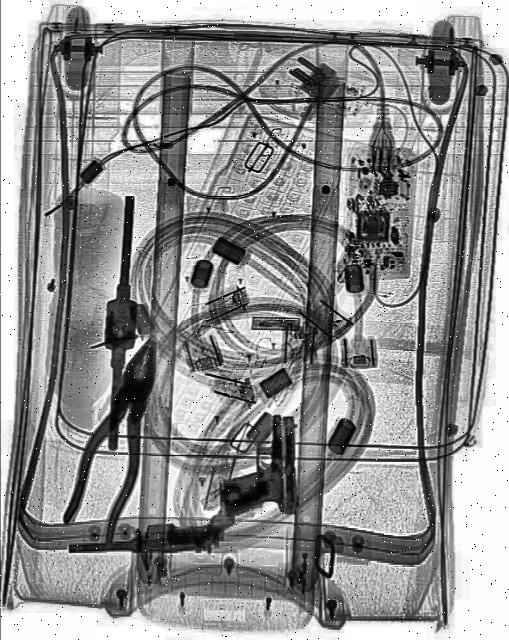Gun: (217, 415, 297, 519), (66, 514, 236, 558)
Pliers: (56, 327, 178, 551)
